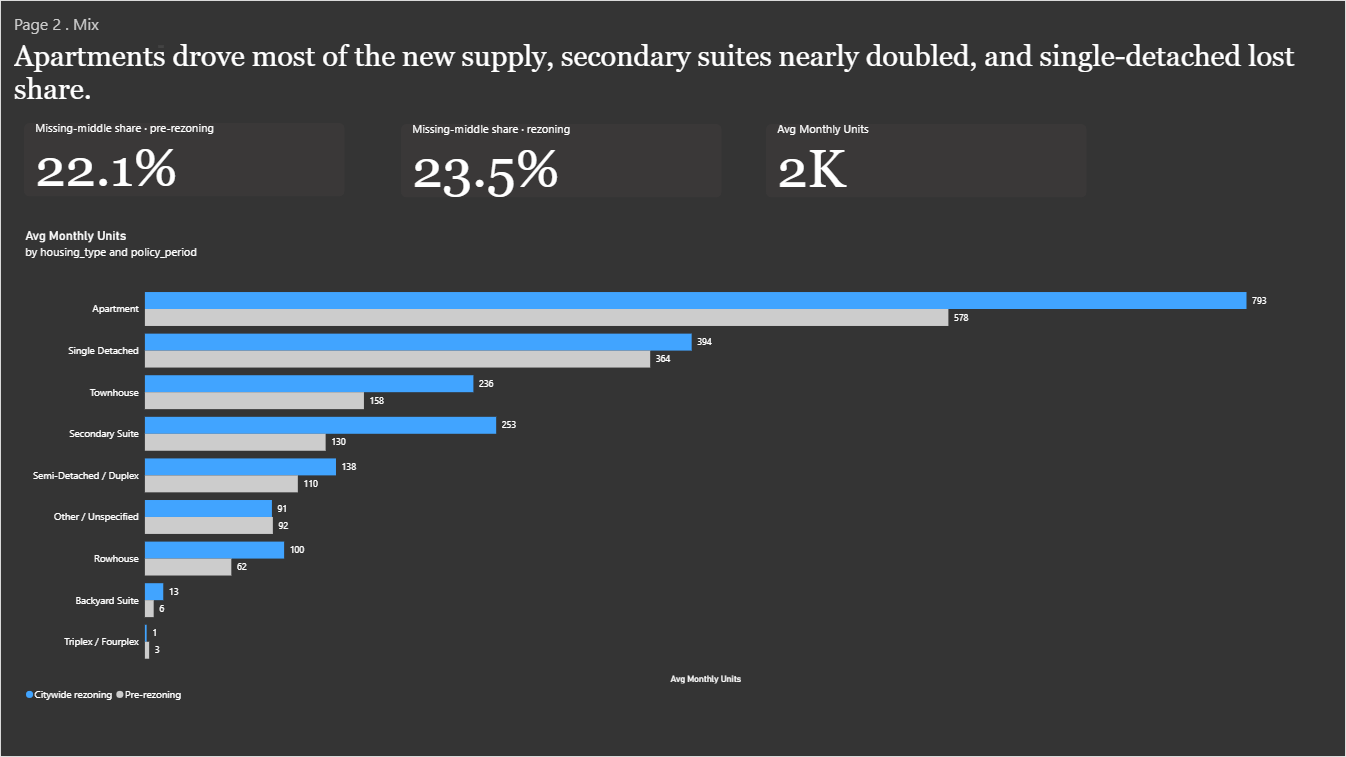

The page's visual inventory and layout, read from the dashboard file:
{"tool":"powerbi","page":{"name":"Page 2","canvas":[1920,1080],"ordinal":1},"visuals":[{"type":"textbox","title":"Page 2 . Mix","box":[18.6,17.1,214.3,50],"z":0},{"type":"textbox","title":"Apartments drove most of the new supply, secondary suites nearly doubled, and single-detached lost share.","box":[18.6,54.3,1832.9,102.9],"z":1000},{"type":"clusteredBarChart","fields":{"Category":["gold dim_housing_type.housing_type"],"Series":["gold dim_date.policy_period"],"Y":["Measure.Avg Monthly Units"]},"box":[18.6,310,1805.7,711.4],"z":2000},{"type":"cardVisual","fields":{"Data":["Measure.Missing Middle Share %"]},"box":[32.9,174.3,458.9,105.2],"z":3000},{"type":"cardVisual","fields":{"Data":["Measure.Missing Middle Share %"]},"box":[571.4,175.7,458.9,105.2],"z":4000},{"type":"cardVisual","fields":{"Data":["Measure.Avg Monthly Units"]},"box":[1092.9,175.7,458.9,105.2],"z":5000}]}

Visuals, with their boxes in screenshot pixels (x1, y1, x2, y2), scaled from the page's 1920x1080 canvas onto the 1346x757 screenshot:
"Page 2 . Mix" textbox: <bbox>13, 12, 163, 47</bbox>
"Apartments drove most of the new supply, secondary suites nearly doubled, and single-detached lost share." textbox: <bbox>13, 38, 1298, 110</bbox>
clusteredBarChart - gold dim_housing_type.housing_type x gold dim_date.policy_period: <bbox>13, 217, 1279, 716</bbox>
cardVisual - Measure.Missing Middle Share %: <bbox>23, 122, 345, 196</bbox>
cardVisual - Measure.Missing Middle Share %: <bbox>401, 123, 722, 197</bbox>
cardVisual - Measure.Avg Monthly Units: <bbox>766, 123, 1088, 197</bbox>
